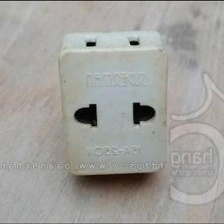three_eye_plug: (53, 26, 171, 179)
